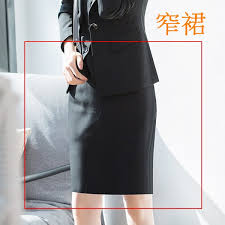F_tailored skirt: (57, 69, 168, 202)
